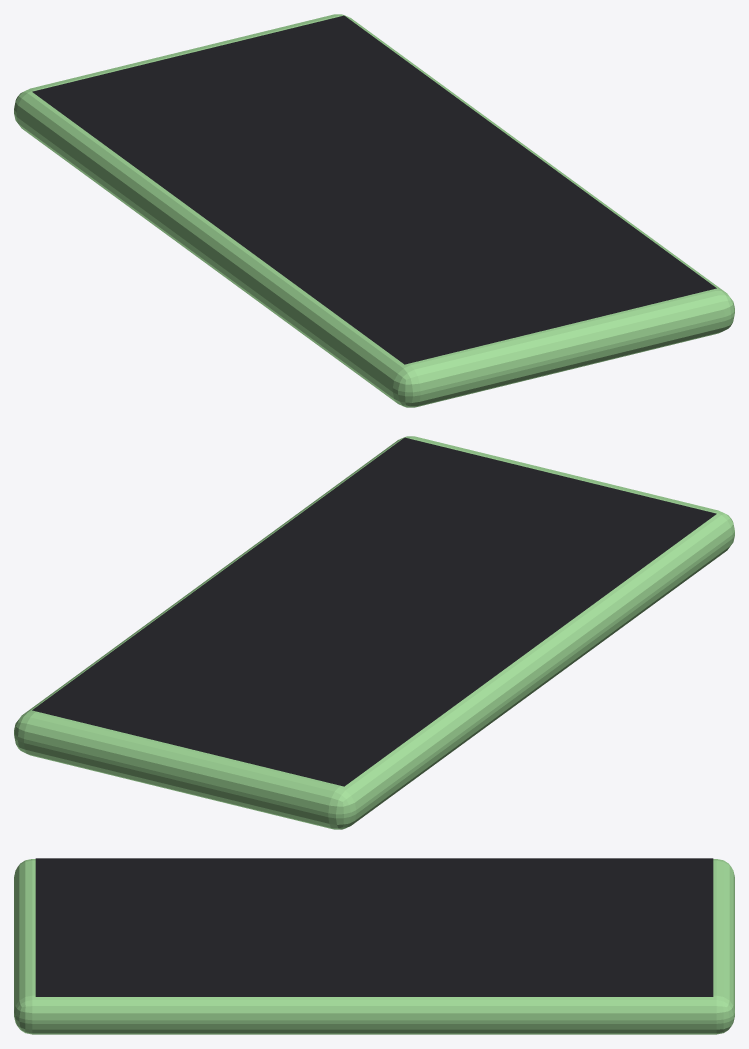
File: oppo-f-model-329-mid-range-2022.glb
3 views of the same model, one above another, from view 1: azimuth 30°, elevation 25°; view 2: azimuth 150°, elevation 25°; view 3: azimuth 270°, elevation 25° (orthographic). The views are drawn at different scales.
Visible parts, largest first — view 1: Phone_Screen, Phone_Body; view 2: Phone_Screen, Phone_Body; view 3: Phone_Screen, Phone_Body.
Part boxes in pixels (x1,y1,x2,y2): Phone_Screen: (32, 15, 716, 364); Phone_Body: (14, 14, 734, 407); Phone_Screen: (32, 437, 716, 786); Phone_Body: (14, 436, 734, 829); Phone_Screen: (35, 858, 713, 996); Phone_Body: (14, 859, 734, 1034).
Size of the model in its own units: 0.0764 by 0.0089 by 0.1545.
